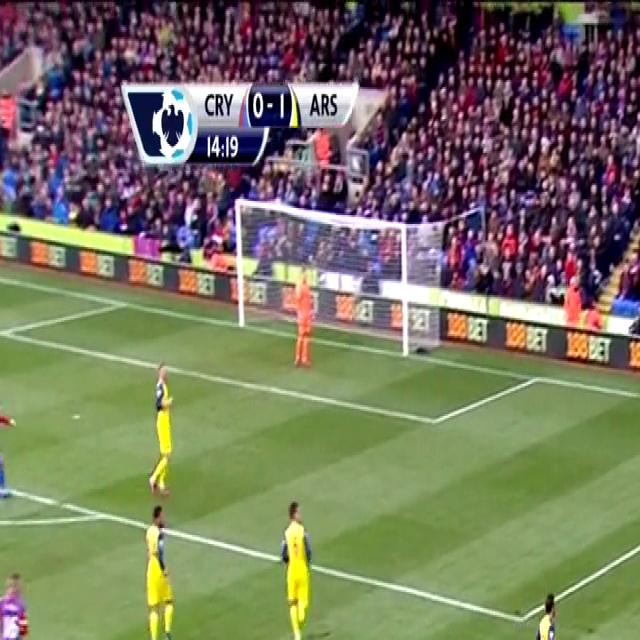goalkeeper: (283, 269, 323, 372)
soccer-player: (267, 494, 327, 640), (132, 496, 192, 640), (138, 353, 184, 502), (0, 562, 46, 640), (521, 588, 577, 640)
